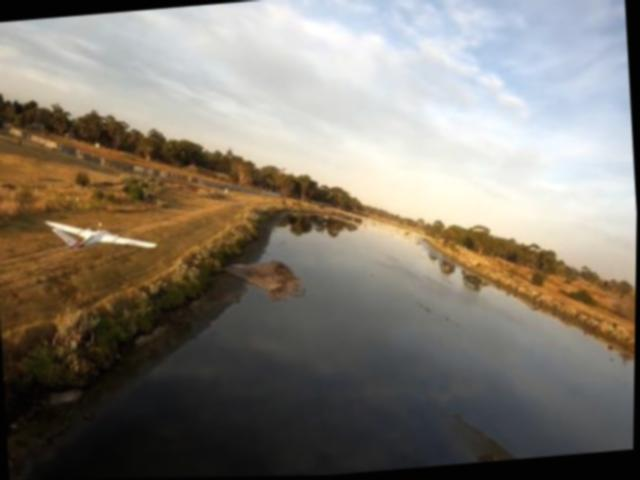uav: (38, 207, 159, 260)
